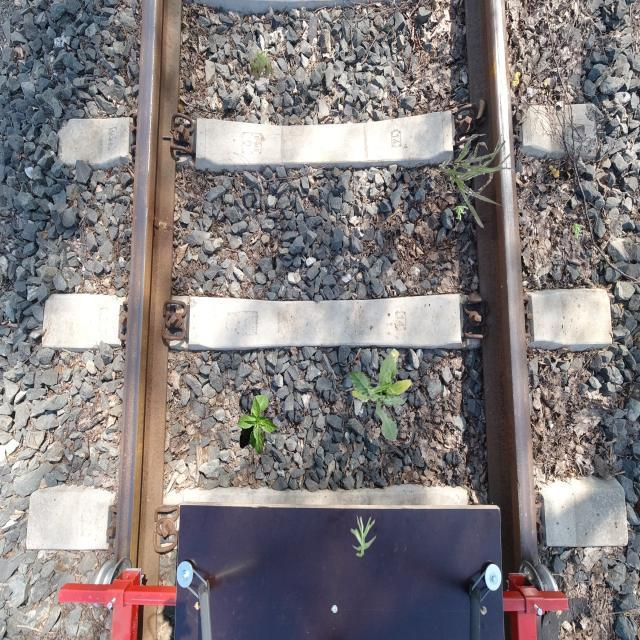Plant: (439, 134, 512, 228), (350, 348, 412, 442), (238, 395, 280, 455), (350, 515, 377, 557), (249, 49, 275, 81), (572, 224, 586, 240), (455, 205, 469, 220)
